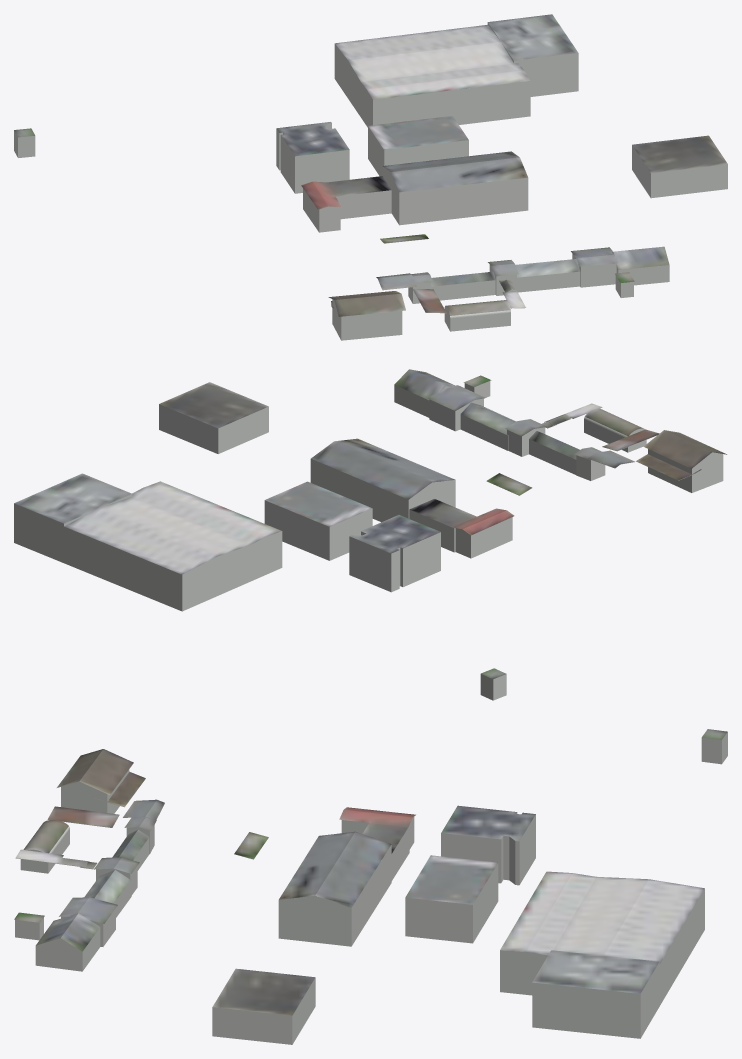
The model's file is LSZA_0_-1.glb.
3 renders of one model, top to bottom at view 1: azimuth 30°, elevation 25°; view 2: azimuth 150°, elevation 25°; view 3: azimuth 270°, elevation 25°, orthographic. The views are drawn at different scales.
Parts seen in each view (by area): view 1: building_b2b711ba4472db2f, building_e83971de1e957d6e, building_fdef377d9f253df0, building_8a79ccb9806398d0; view 2: building_8a79ccb9806398d0, building_b2b711ba4472db2f, building_fdef377d9f253df0, building_e83971de1e957d6e; view 3: building_b2b711ba4472db2f, building_fdef377d9f253df0, building_8a79ccb9806398d0, building_e83971de1e957d6e.
Part boxes in pixels (<box>): building_b2b711ba4472db2f: <box>14,14,578,156</box>; building_e83971de1e957d6e: <box>303,145,727,340</box>; building_fdef377d9f253df0: <box>301,135,727,318</box>; building_8a79ccb9806398d0: <box>14,22,578,193</box>; building_8a79ccb9806398d0: <box>14,494,506,700</box>; building_b2b711ba4472db2f: <box>14,473,506,679</box>; building_fdef377d9f253df0: <box>159,369,726,535</box>; building_e83971de1e957d6e: <box>159,381,723,558</box>; building_b2b711ba4472db2f: <box>405,729,727,993</box>; building_fdef377d9f253df0: <box>14,749,415,1015</box>; building_8a79ccb9806398d0: <box>405,732,727,1038</box>; building_e83971de1e957d6e: <box>15,769,414,1044</box>.
Bounding box in the file's own units: 188 × 15.65 × 193.
2 materials, 1 textured.
